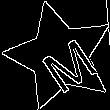M_NW: (25, 22, 94, 90)
